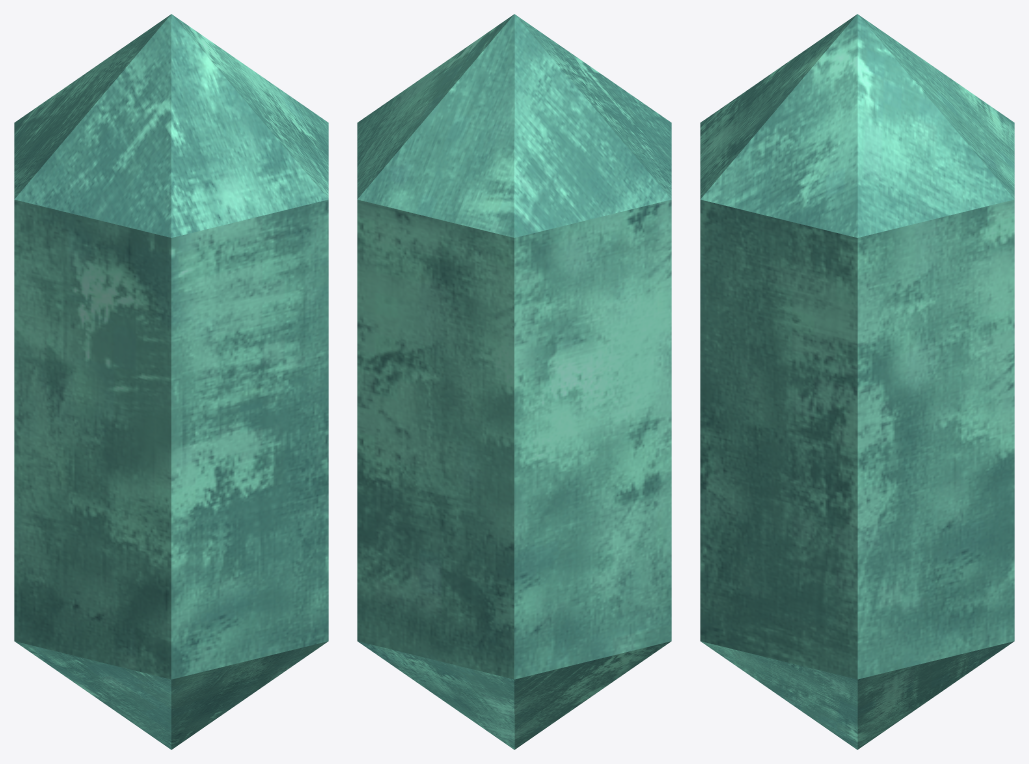
File: gemMesh00.fbx
The picture shows the model from 3 angles, left to right: view 1: azimuth 30°, elevation 25°; view 2: azimuth 150°, elevation 25°; view 3: azimuth 270°, elevation 25°; orthographic projection.
Visible parts, largest first — view 1: gem; view 2: gem; view 3: gem.
Part boxes in pixels (x1,y1,x2,y2): gem: (14, 14, 328, 749); gem: (357, 14, 671, 749); gem: (700, 14, 1014, 749).
Size of the model in its own units: 53.67 by 120 by 46.48.
